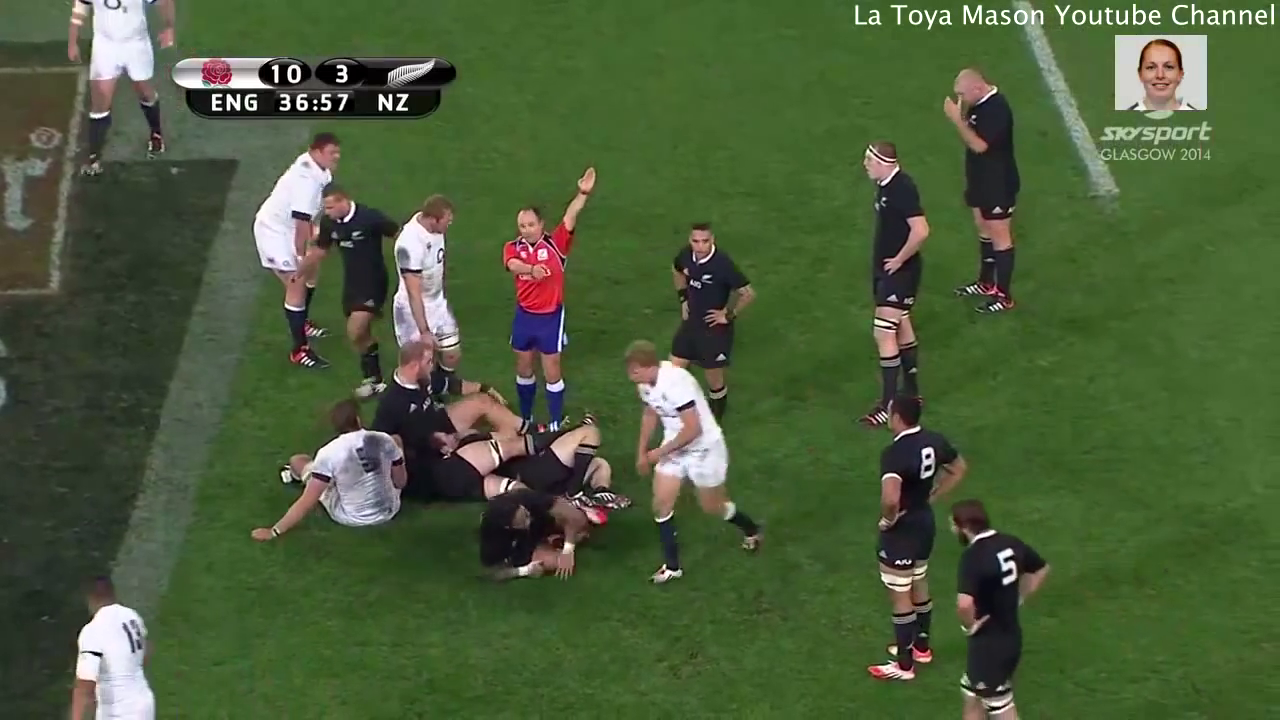player: (613, 332, 776, 597), (850, 388, 969, 684), (833, 122, 937, 435), (289, 177, 421, 406), (247, 392, 413, 568), (494, 159, 604, 421), (241, 127, 351, 385), (937, 488, 1054, 720), (648, 208, 760, 436), (933, 55, 1027, 320), (55, 1, 185, 181), (451, 454, 611, 594), (49, 554, 173, 720), (381, 178, 477, 392), (364, 334, 482, 501)
